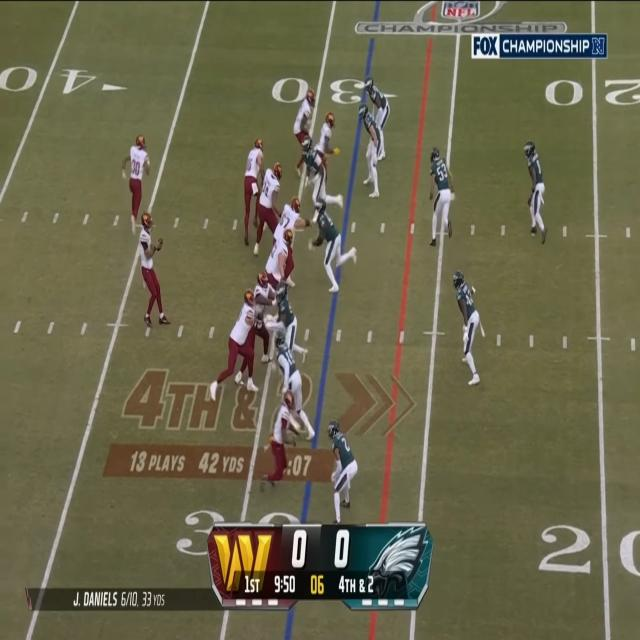Ball: (156, 236, 166, 255)
